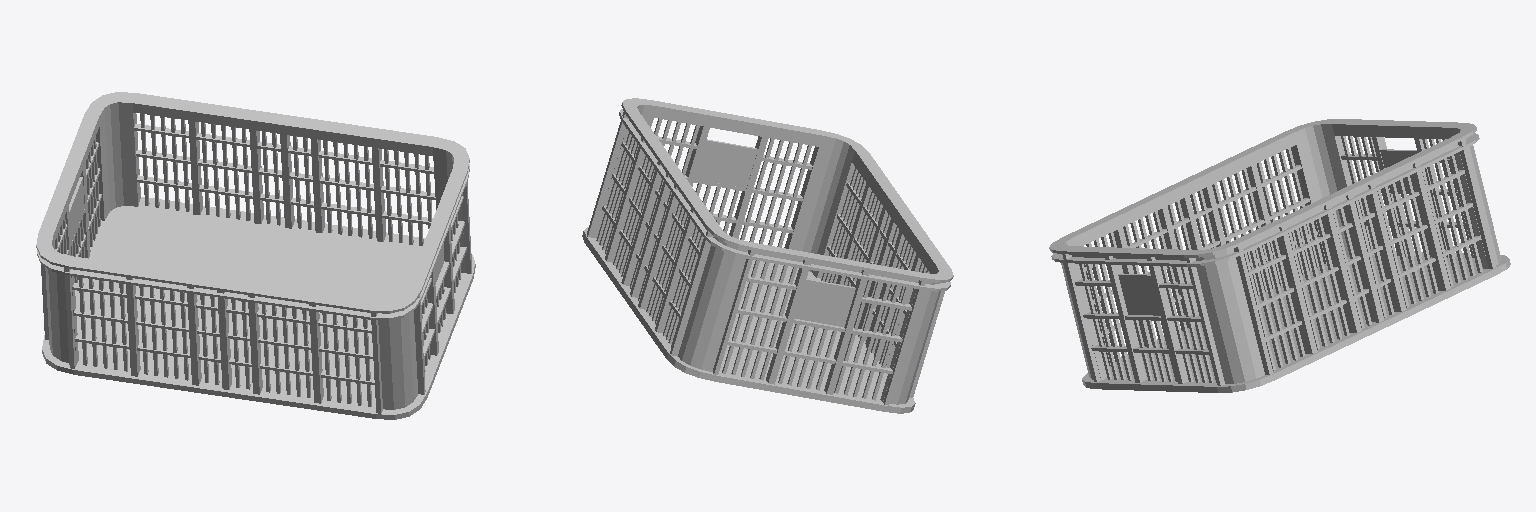
3 views of the same model, side by side, from view 1: azimuth 30°, elevation 25°; view 2: azimuth 150°, elevation 25°; view 3: azimuth 270°, elevation 25° (orthographic).
Visible parts, largest first — view 1: 14029_plastic_fruit_crate_SG; view 2: 14029_plastic_fruit_crate_SG; view 3: 14029_plastic_fruit_crate_SG.
Part boxes in pixels (x1,y1,x2,y2): 14029_plastic_fruit_crate_SG: (36, 92, 475, 419); 14029_plastic_fruit_crate_SG: (582, 98, 953, 413); 14029_plastic_fruit_crate_SG: (1049, 119, 1510, 392).
Bounding box in the file's own units: 2.15 × 1.08 × 2.17.